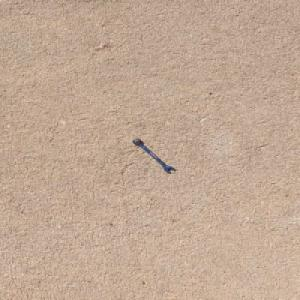Wrench: (131, 138, 176, 173)
